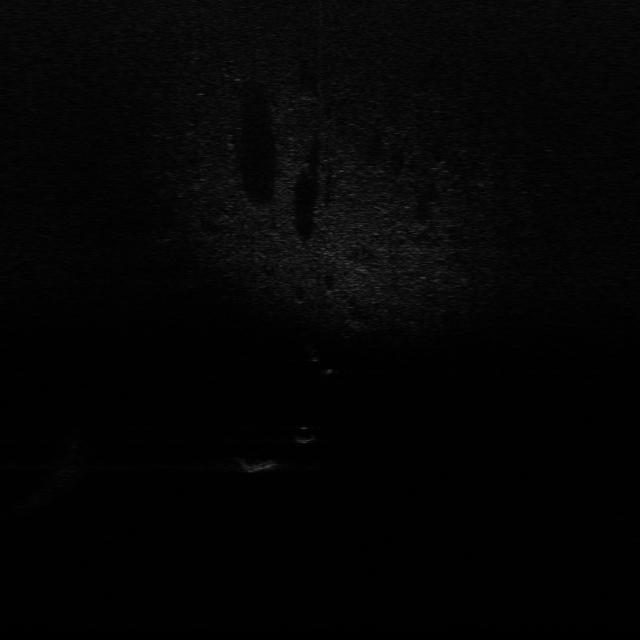ball: (293, 424, 317, 445)
circle cage: (236, 450, 286, 474)
human body: (307, 350, 338, 381)
